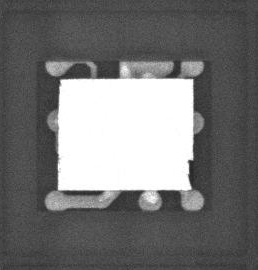DIE_INK: (187, 157, 193, 189)
